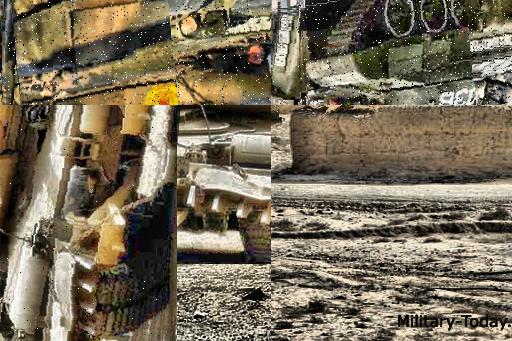tanks: (1, 106, 160, 341), (11, 1, 272, 106), (303, 1, 512, 106), (3, 1, 197, 106), (272, 13, 356, 106)
